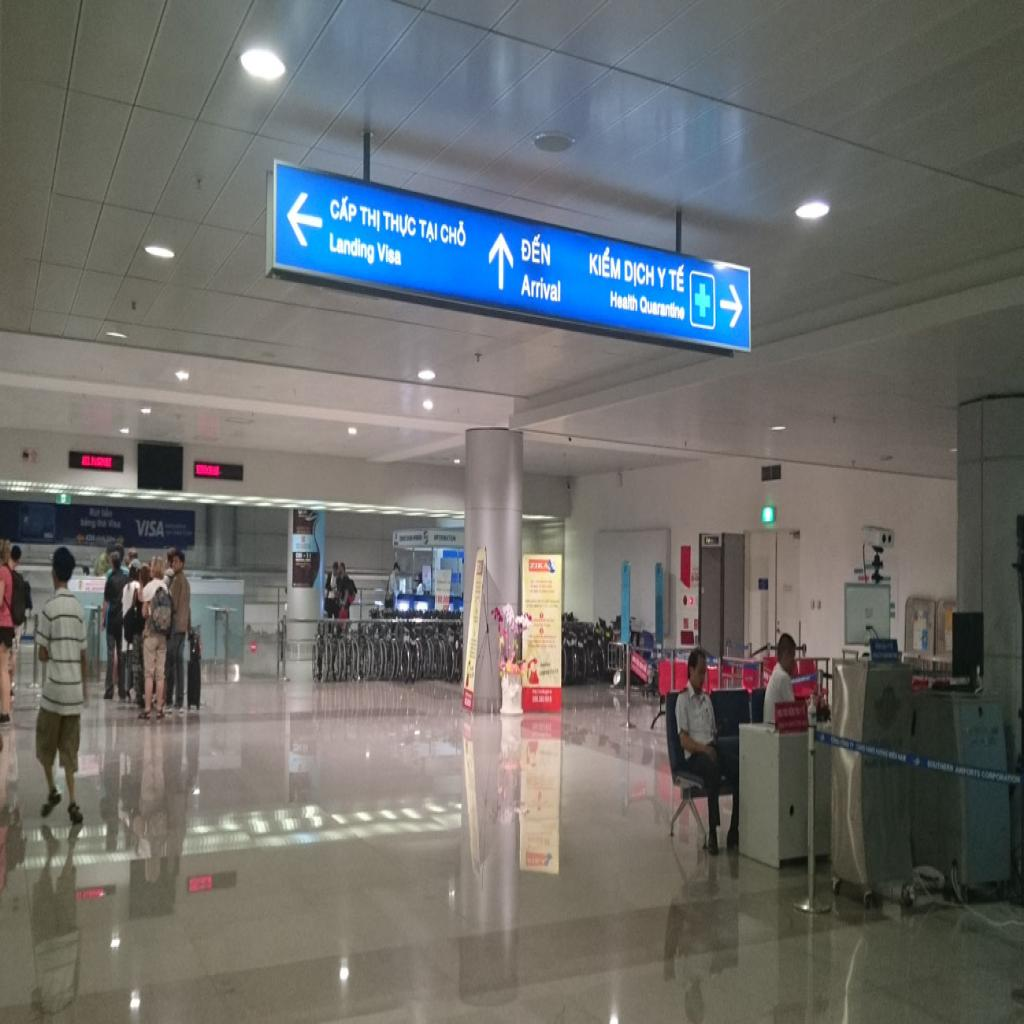text: (328, 228, 376, 269), (520, 268, 563, 306), (587, 240, 623, 284), (520, 228, 554, 270), (640, 294, 686, 325), (383, 206, 417, 242), (623, 254, 655, 290), (329, 189, 359, 227), (438, 216, 468, 252), (607, 284, 640, 316), (375, 237, 403, 270), (358, 203, 382, 235), (135, 517, 165, 539), (981, 770, 1022, 786), (667, 261, 686, 294), (418, 216, 438, 246), (657, 260, 668, 292), (109, 520, 122, 530)
